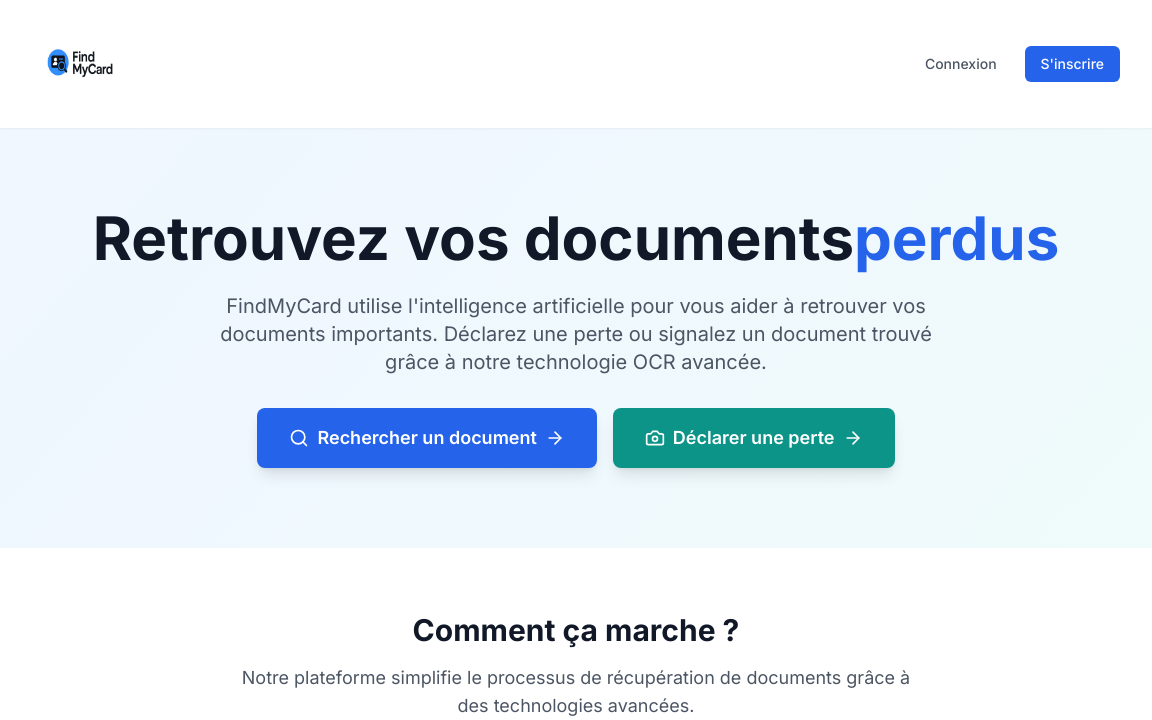
it: Authentication › should navigate to login page
Step 1. Click the link "Connexion" → (961,64), box x1=925 y1=55 x2=997 y2=72
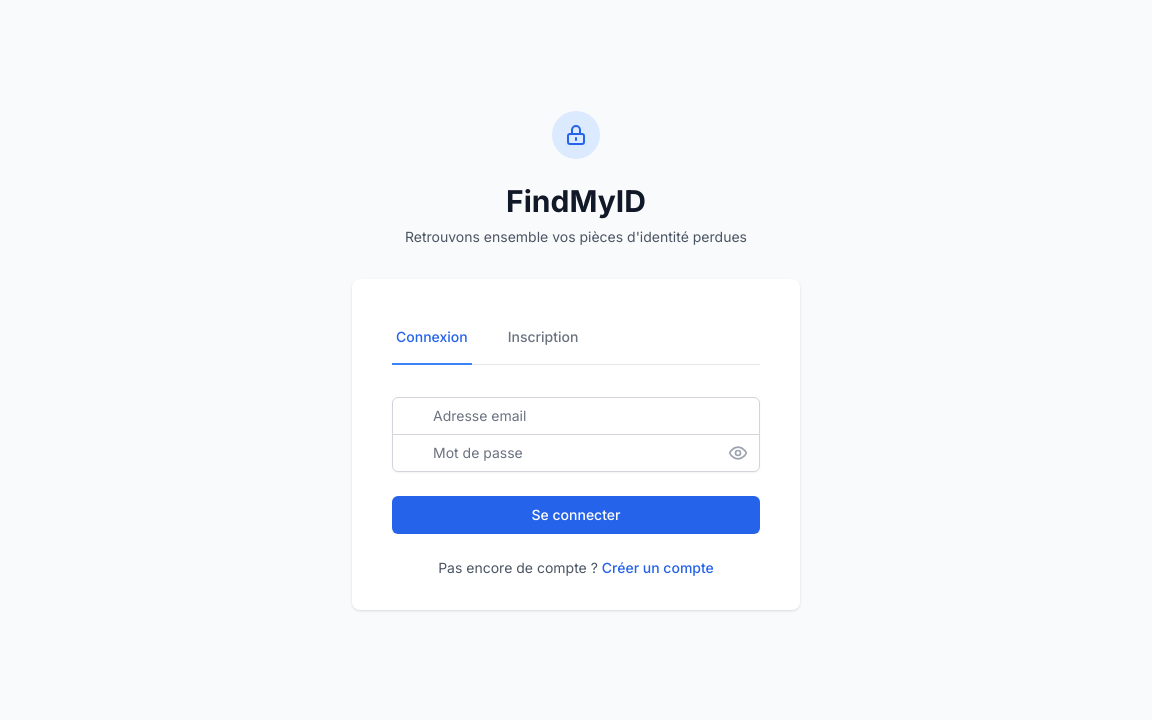
Expected: the button "Se connecter" is shown, x1=392 y1=496 x2=760 y2=534
